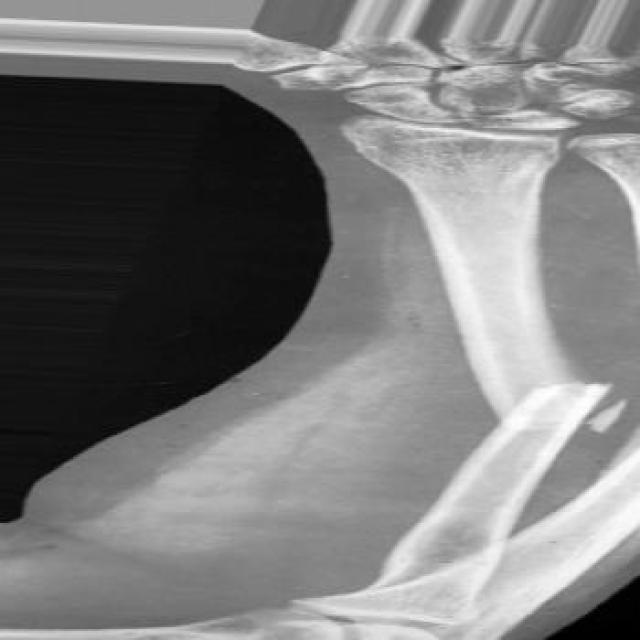Fracture: (473, 358, 640, 453)
